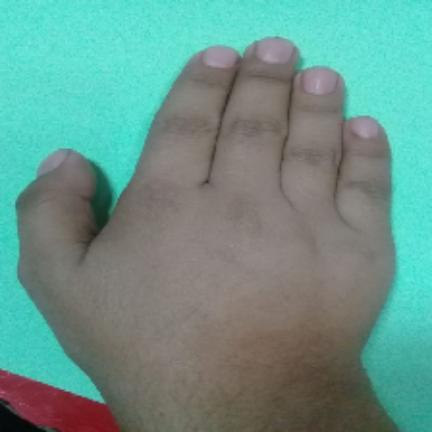Nail: (255, 38, 295, 64), (302, 68, 338, 94), (37, 149, 68, 176), (202, 46, 239, 68), (350, 116, 379, 139)
